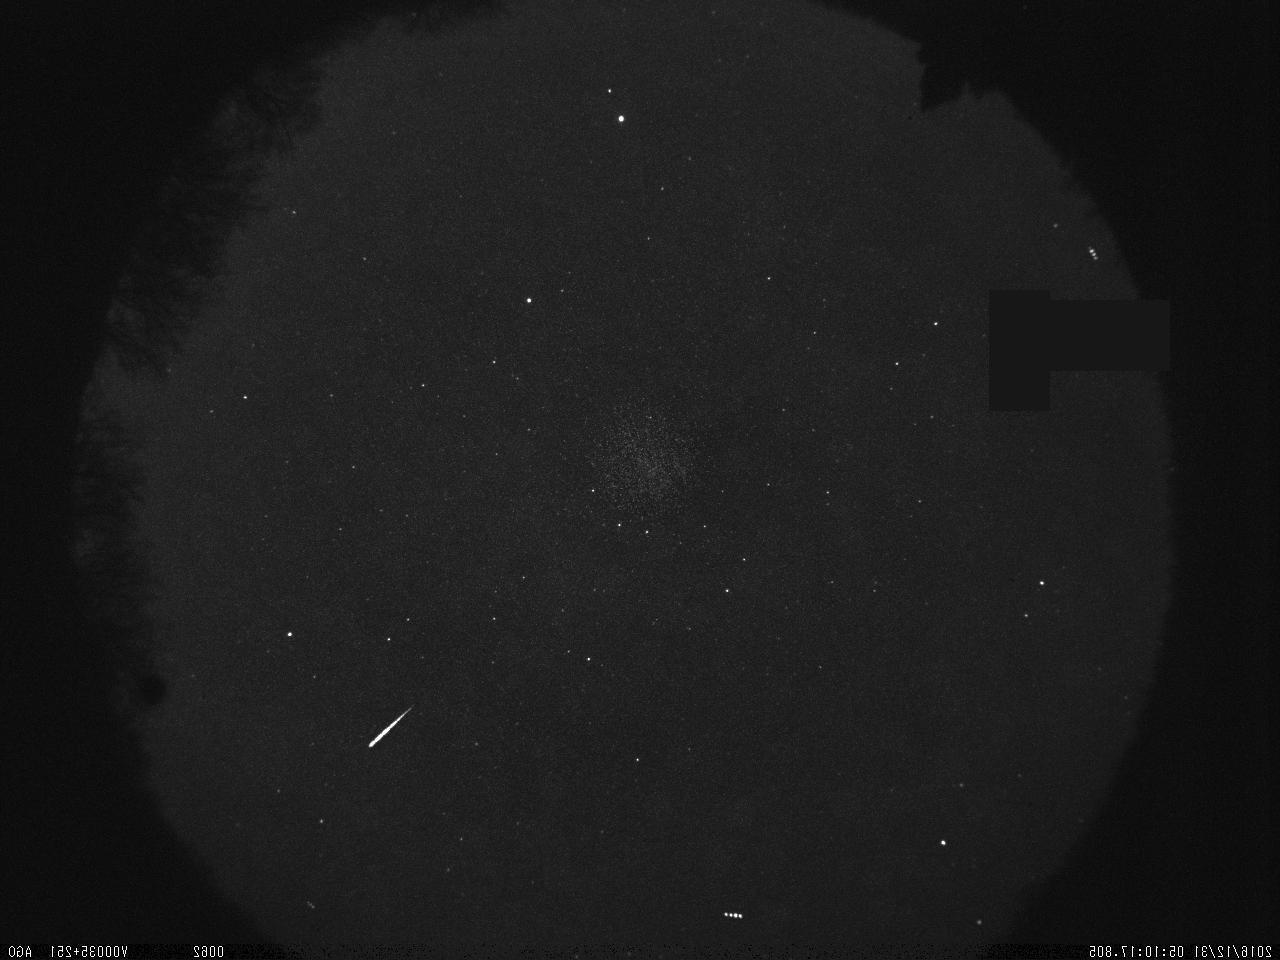meteor: (361, 697, 419, 752)
satelite: (718, 904, 750, 928)
